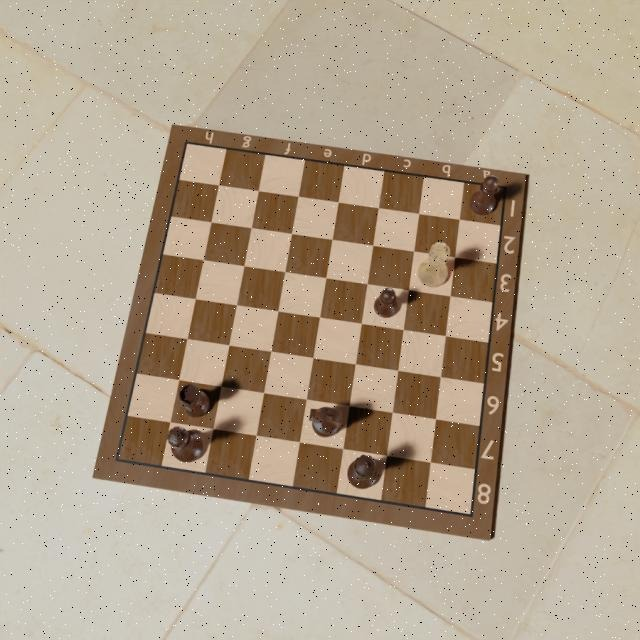black-bishop: (468, 175, 500, 217)
black-king: (166, 425, 206, 463)
black-knight: (308, 405, 344, 439)
black-pawn: (373, 285, 399, 319)
black-queen: (347, 453, 380, 491)
black-rook: (179, 383, 213, 417)
white-king: (415, 240, 452, 288)
